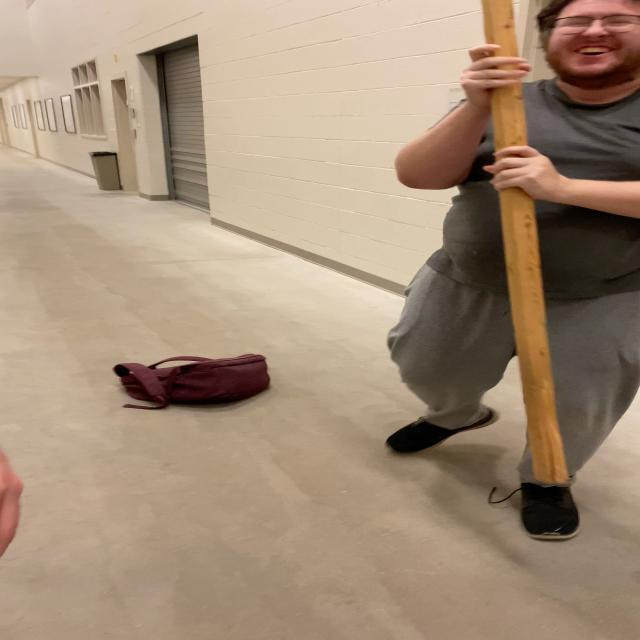Backpacks: (112, 352, 274, 410)
